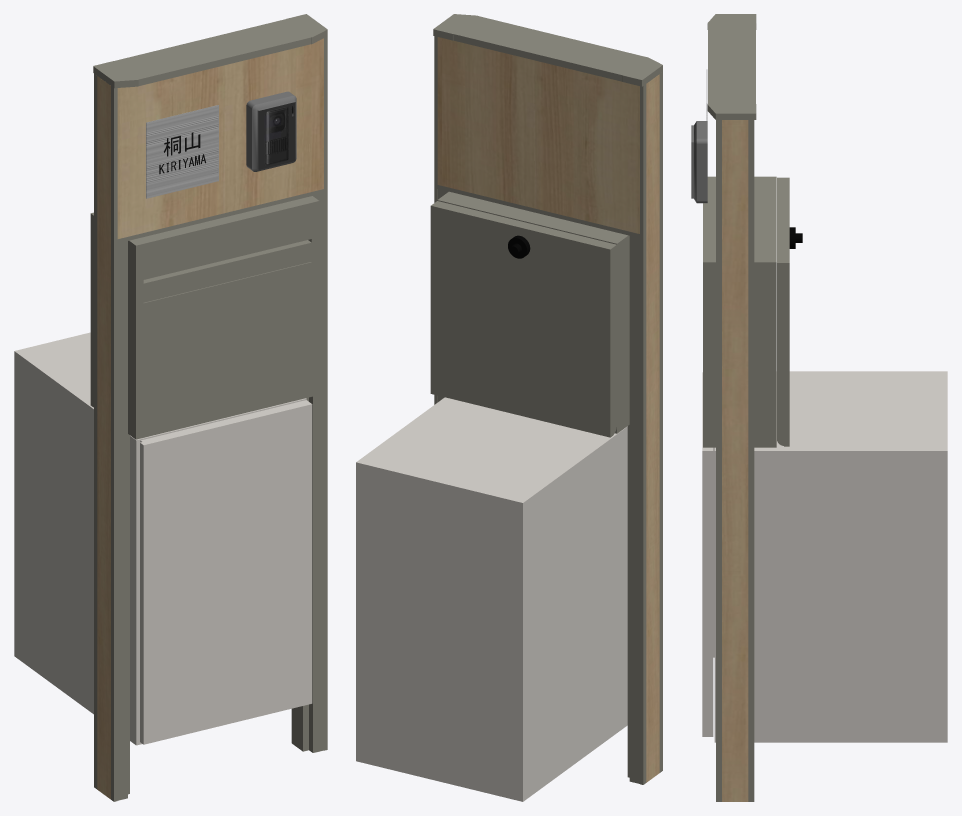
Rendered from eabkinoumonchu-yoko-debox_actyoak.fbx.
The picture shows the model from 3 angles, left to right: view 1: azimuth 30°, elevation 25°; view 2: azimuth 150°, elevation 25°; view 3: azimuth 270°, elevation 25°; orthographic projection. The views are drawn at different scales.
Visible parts, largest first — view 1: eabkinoumonchu-yoko-debox_travertine; view 2: eabkinoumonchu-yoko-debox_travertine; view 3: eabkinoumonchu-yoko-debox_travertine.
Boxes of the visible parts, x1,y1,x2,y2 form: eabkinoumonchu-yoko-debox_travertine: [14, 14, 327, 801]; eabkinoumonchu-yoko-debox_travertine: [356, 14, 662, 801]; eabkinoumonchu-yoko-debox_travertine: [691, 14, 947, 801].
Bounding box in the file's own units: 43.2 × 139 × 47.06.
Materials: 9 (5 with a texture image).
